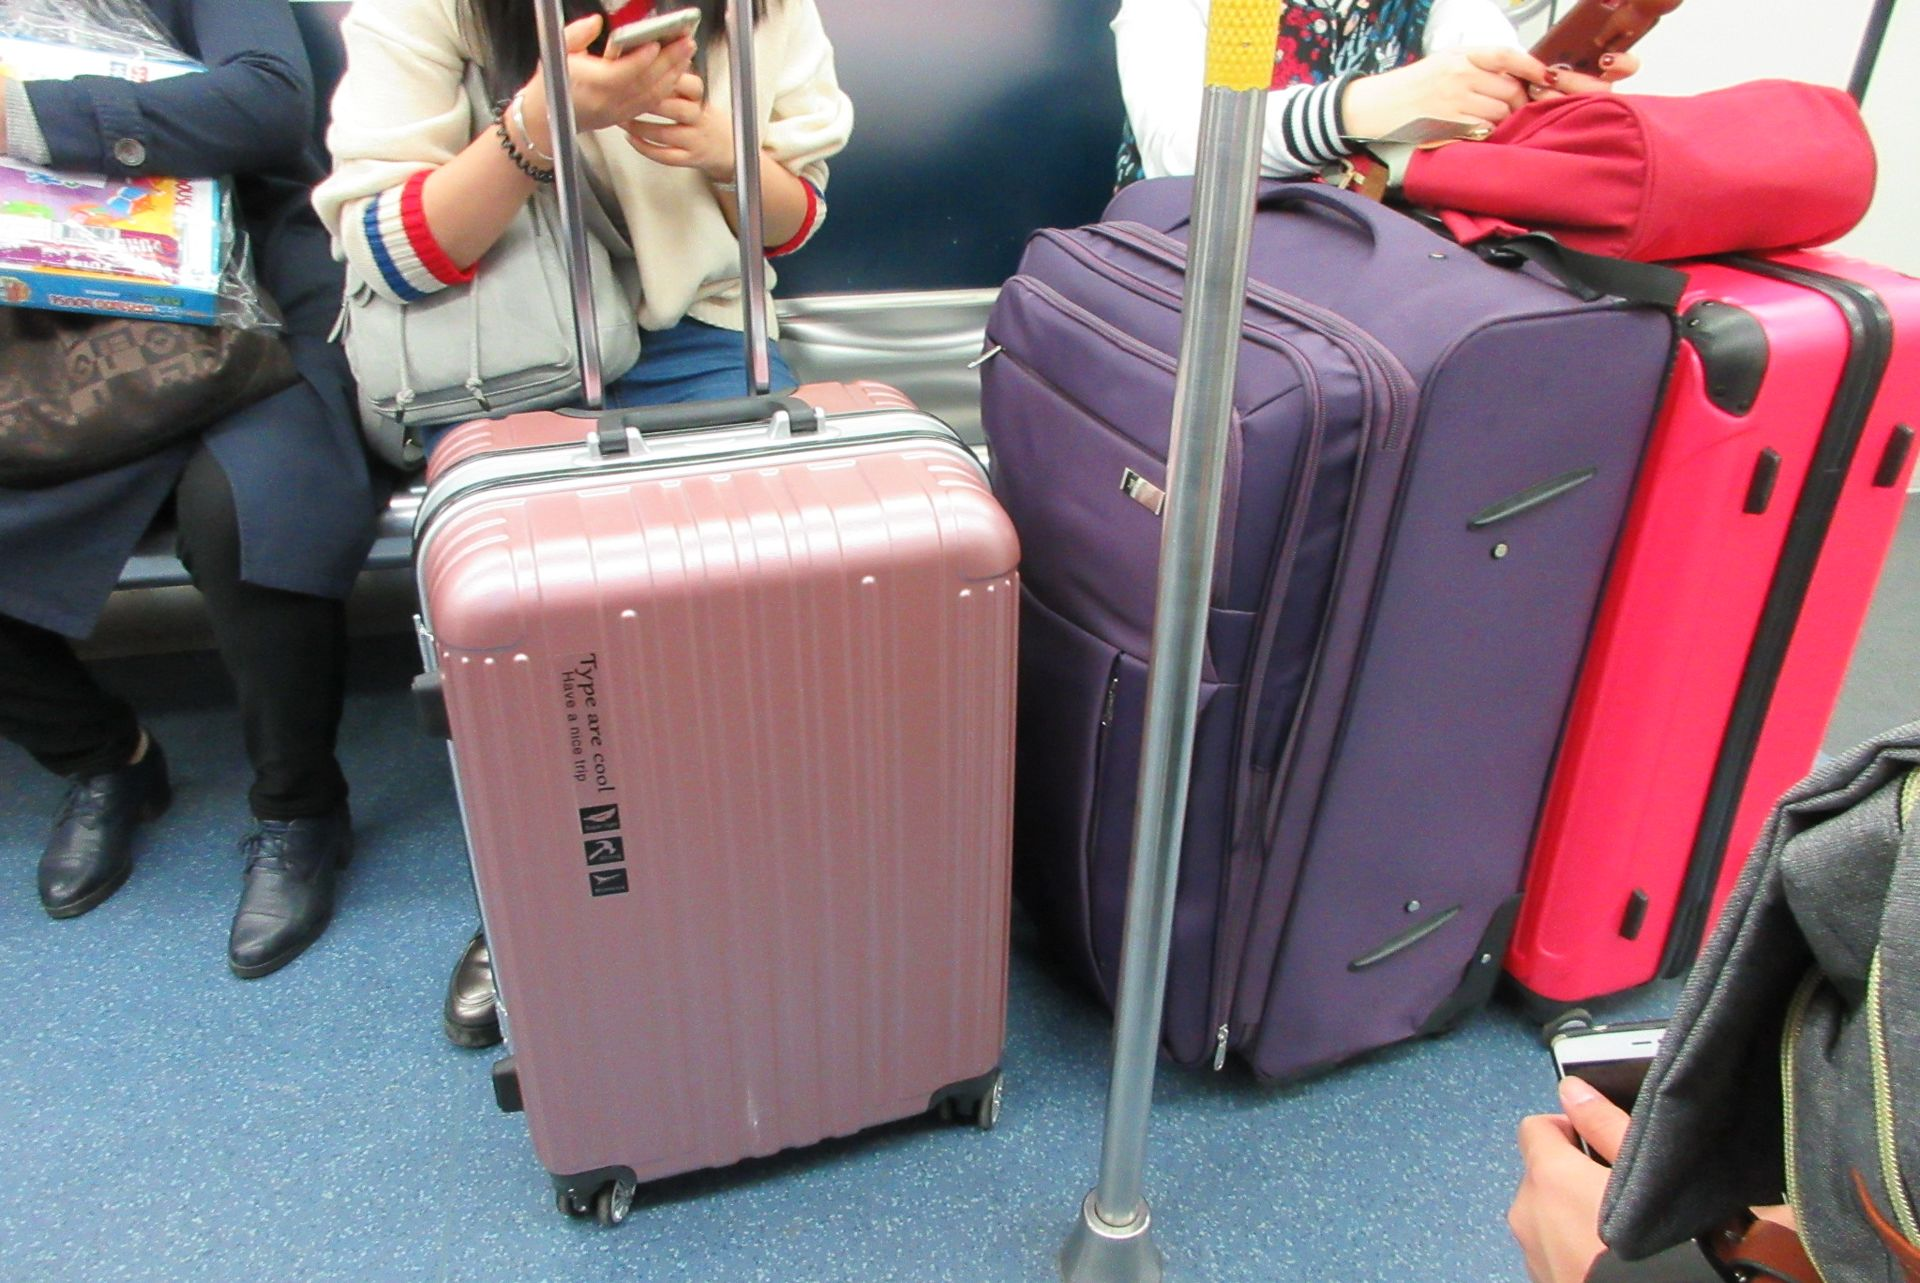luggage: (401, 402, 1024, 1209), (1011, 178, 1523, 1067), (1626, 268, 1919, 1067)
mobile phone: (1533, 1, 1657, 47), (611, 16, 702, 49)
